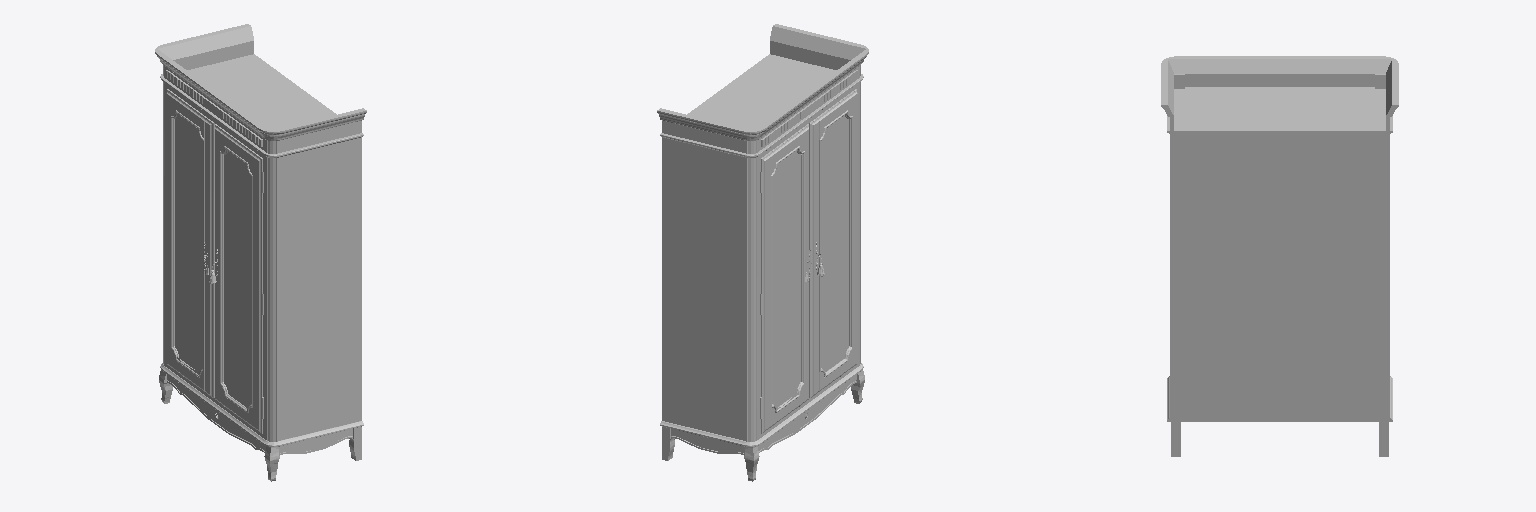
Rendered from Wardrobe.obj.
The picture shows the model from 3 angles: view 1: azimuth 30°, elevation 25°; view 2: azimuth 150°, elevation 25°; view 3: azimuth 270°, elevation 25°; orthographic projection.
Parts seen in each view (by area): view 1: Layer_0; view 2: Layer_0; view 3: Layer_0.
Boxes of the visible parts, <box> form: Layer_0: <box>155,24,366,481</box>; Layer_0: <box>657,24,868,481</box>; Layer_0: <box>1161,56,1398,456</box>.
Bounding box in the file's own units: 240 × 787 × 480.